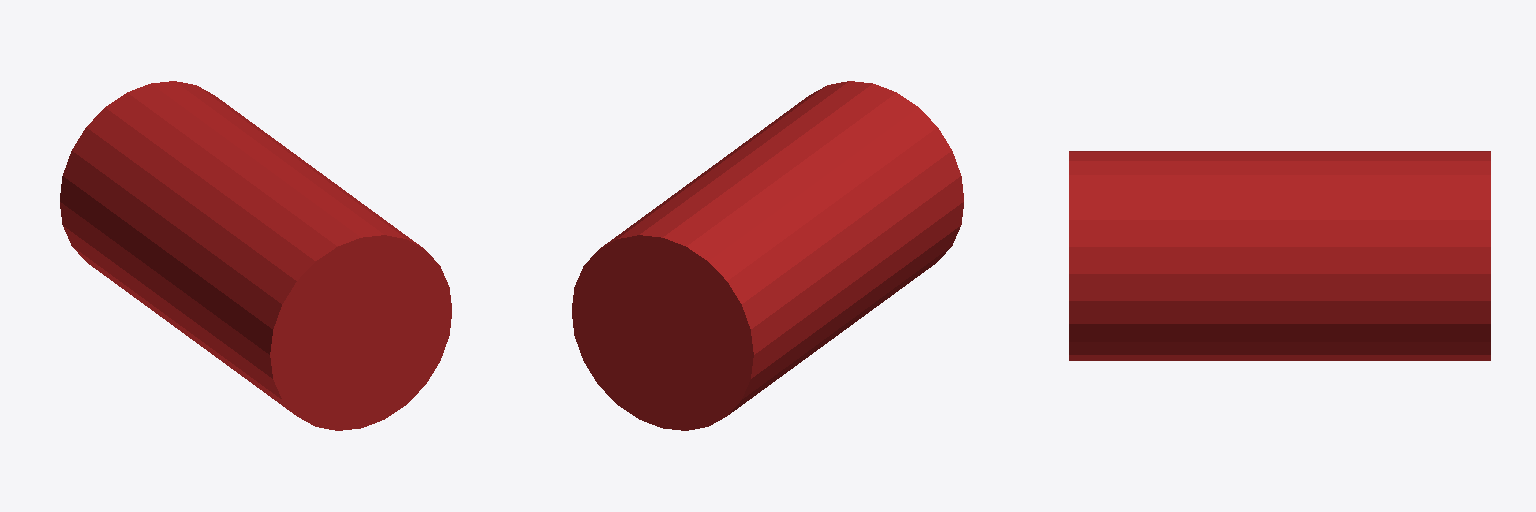
The model's file is ARC_Hand.obj.
3 views of the same model, side by side, from view 1: azimuth 30°, elevation 25°; view 2: azimuth 150°, elevation 25°; view 3: azimuth 270°, elevation 25° (orthographic).
Parts seen in each view (by area): view 1: Hand; view 2: Hand; view 3: Hand.
Part boxes in pixels (x1,y1,x2,y2): Hand: (60, 81, 451, 430); Hand: (572, 81, 963, 430); Hand: (1069, 151, 1490, 360).
Bounding box in the file's own units: 0.1 × 0.1 × 0.2.